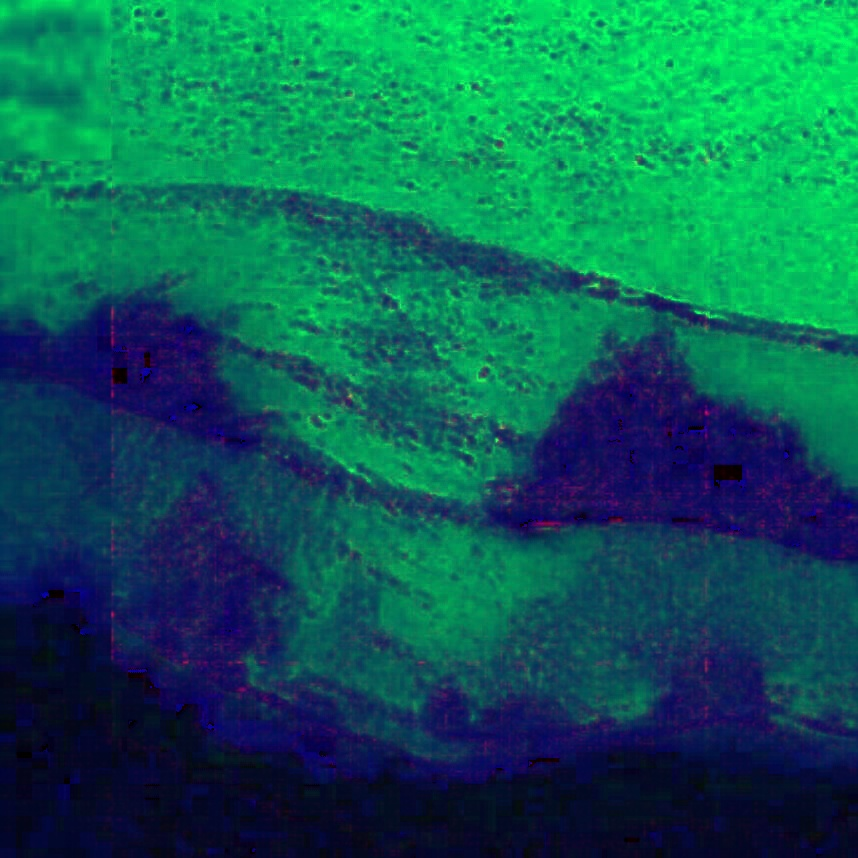rip_current: (135, 218, 611, 699)
